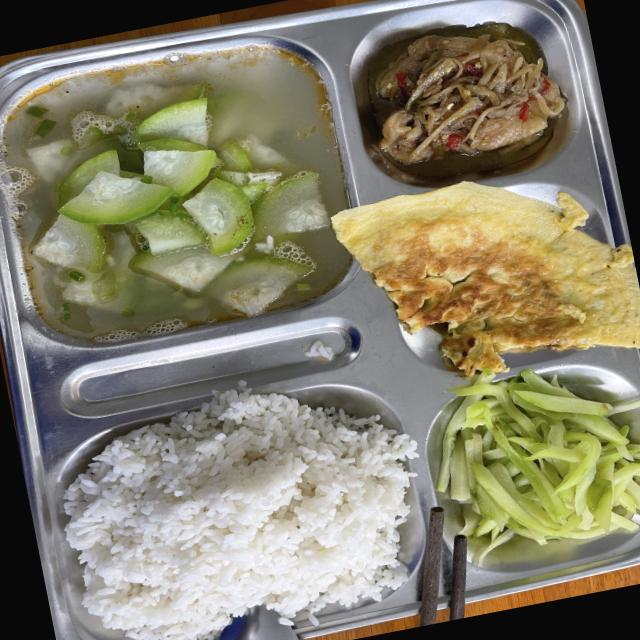canh bau: (0, 46, 351, 343), (509, 506, 515, 514)
com: (64, 382, 417, 640), (255, 497, 264, 505)
rau: (436, 369, 640, 562)
trung chien: (332, 182, 640, 377)
